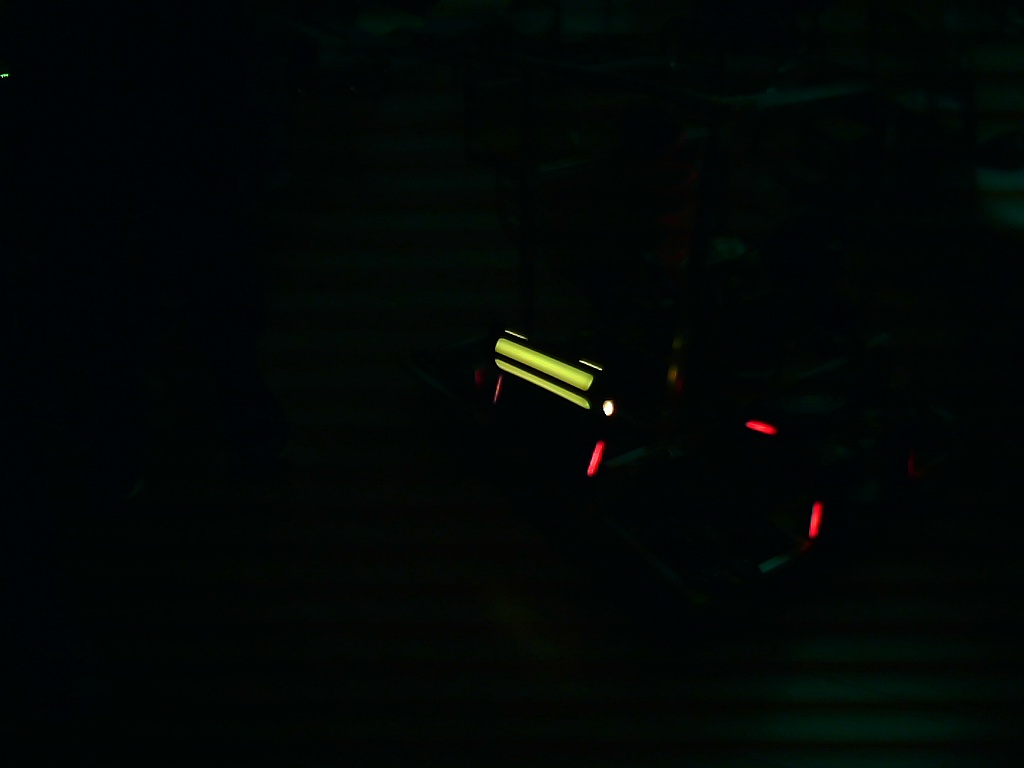lamp: (583, 439, 611, 483), (803, 501, 825, 539)
